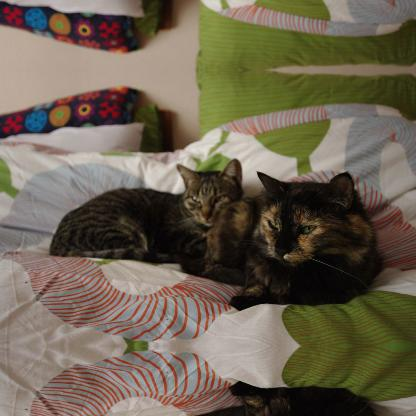Cat: (207, 166, 385, 310), (51, 157, 244, 261), (207, 380, 386, 415)
